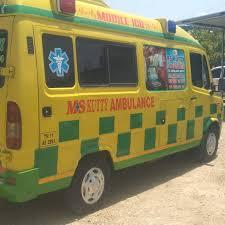ER: (0, 0, 225, 208)
